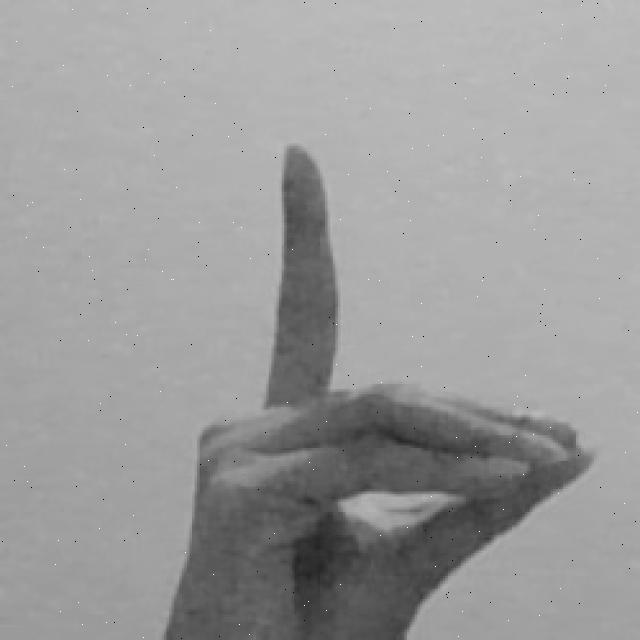D: (154, 141, 602, 640)
